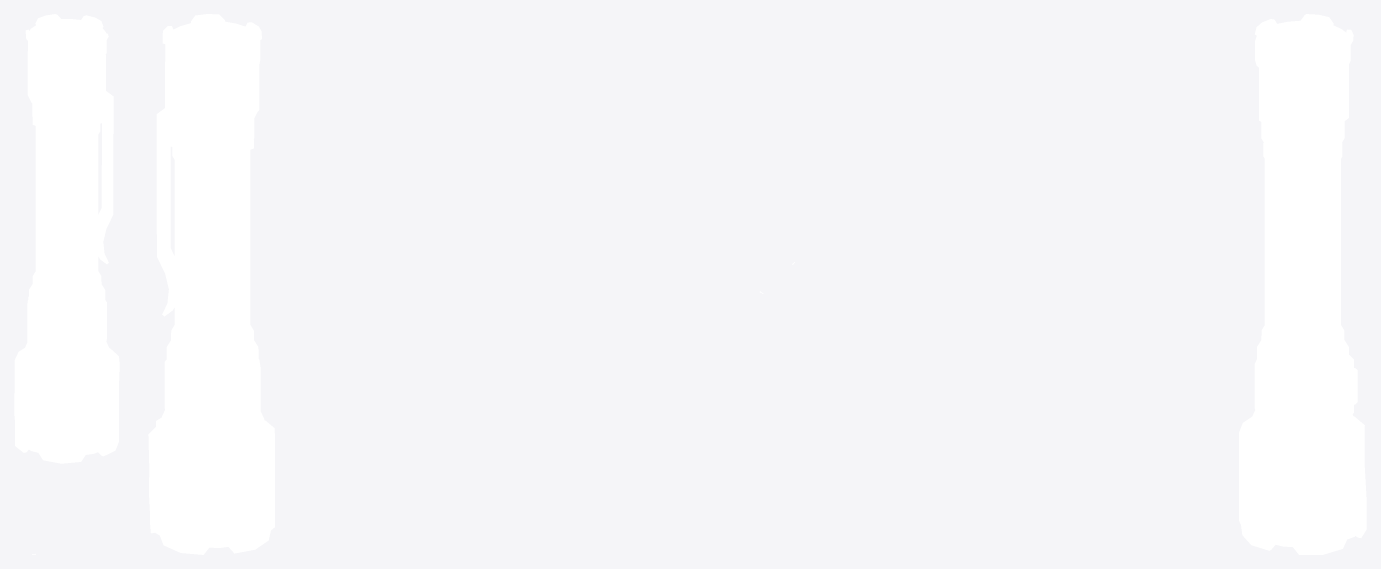
File: flashlight.glb
3 views of the same model, side by side, from view 1: azimuth 30°, elevation 25°; view 2: azimuth 150°, elevation 25°; view 3: azimuth 270°, elevation 25° (orthographic). The views are drawn at different scales.
Visible parts, largest first — view 1: Object_0.002; view 2: Object_0.002; view 3: Object_0.002.
Boxes of the visible parts, x1=… form: Object_0.002: x1=14, y1=14, x2=119, y2=463; Object_0.002: x1=148, y1=14, x2=274, y2=554; Object_0.002: x1=1239, y1=14, x2=1366, y2=554.
Bounding box in the file's own units: 1072 × 1442 × 1519.
3 materials, 3 textured.
